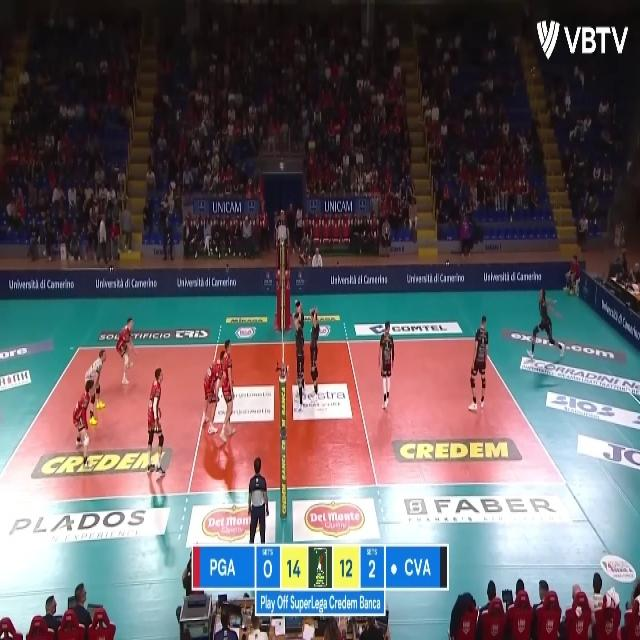volleyball court: (4, 336, 567, 500)
